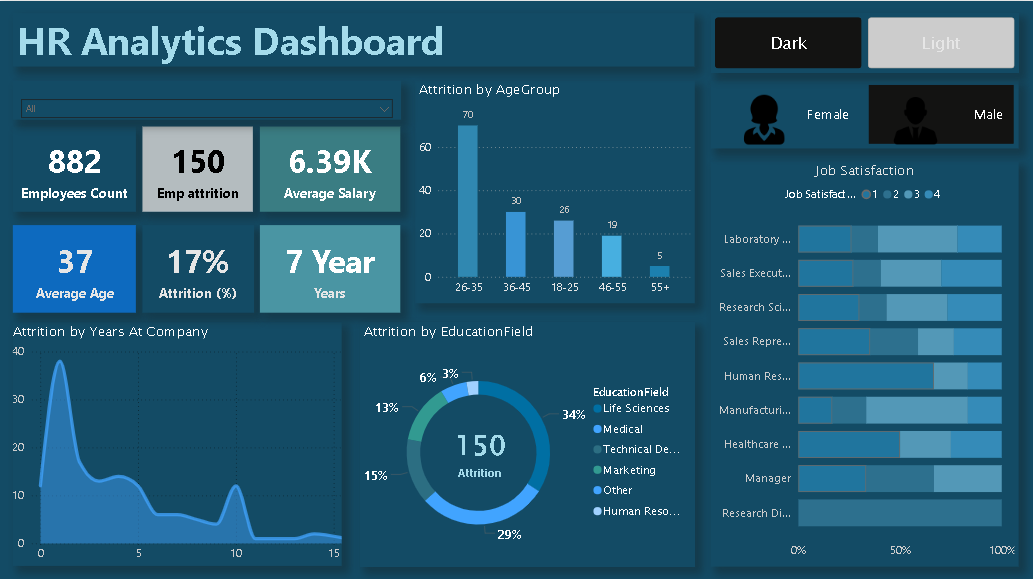

Layout of this report page (visuals, bound fields, positions):
{"tool":"powerbi","page":{"name":"Page 2","canvas":[1280,720],"ordinal":1},"visuals":[{"type":"card","fields":{"Values":["HR_Analytics.Employees_attrition"]},"box":[537.1,511.4,115.7,81.4],"z":0},{"type":"image","box":[903.3,113.3,78.3,68.3],"z":1000},{"type":"image","box":[903.3,105,66.7,76.7],"z":2000},{"type":"image","box":[1175,15,60,65],"z":3000},{"type":"shape","box":[0,0,1280,720],"z":4000},{"type":"card","fields":{"Values":["HR_Analytics.Employees_attrition"]},"box":[550,511.4,90,91.4],"z":5000},{"type":"donutChart","title":"Attrition by EducationField","fields":{"Y":["HR_Analytics.Employees_attrition"],"Category":["HR_Analytics.EducationField"]},"box":[446.7,396.7,413.3,301.7],"z":6000},{"type":"areaChart","title":"Attrition by Years At Company","fields":{"Category":["HR_Analytics.YearsAtCompany"],"Y":["HR_Analytics.Employees_attrition"]},"box":[19.1,396.5,406.1,300.8],"z":7000},{"type":"hundredPercentStackedBarChart","title":"Job Satisfaction","fields":{"Y":["HR_Analytics.Employees_attrition"],"Series":["HR_Analytics.JobSatisfaction"],"Category":["HR_Analytics.JobRole"]},"box":[880,198.3,380,500],"z":8000},{"type":"columnChart","title":"Attrition by AgeGroup","fields":{"Category":["HR_Analytics.AgeGroup"],"Y":["HR_Analytics.Employees_attrition"]},"box":[515,98.3,345,275],"z":9000},{"type":"advancedSlicerVisual","fields":{"Values":["HR_Analytics.Gender"]},"box":[880,98.3,380,83.3],"z":10000},{"type":"card","fields":{"Values":["HR_Analytics.Employee_Count"]},"box":[18.6,155,151.9,105.4],"z":11000},{"type":"card","fields":{"Values":["HR_Analytics.Employees_attrition"]},"box":[178.3,155,136.4,105.4],"z":12000},{"type":"card","fields":{"Values":["HR_Analytics.Avg_Salary"]},"box":[324,155,173.6,105.4],"z":13000},{"type":"card","fields":{"Values":["HR_Analytics.Avg_age"]},"box":[18.6,277.5,151.9,108.5],"z":14000},{"type":"card","fields":{"Values":["HR_Analytics.attrition%"]},"box":[178.3,277.5,138,108.5],"z":15000},{"type":"card","fields":{"Values":["HR_Analytics.year_with_text"]},"box":[324,277.5,173.6,108.5],"z":16000},{"type":"image","box":[910,101.4,71.4,90],"z":17000},{"type":"textbox","title":"  HR Analytics Dashboard","box":[18.6,14.3,841.4,65.7],"z":18000},{"type":"advancedSlicerVisual","fields":{"Values":["Table (2).Mode"],"Label":["HR_Analytics.attrition%"]},"box":[880,15,380,73.3],"z":19000},{"type":"image","box":[1091.7,113.3,81.7,68.3],"z":20000},{"type":"slicer","fields":{"Values":["HR_Analytics.AgeGroup","HR_Analytics.Department"]},"box":[18.6,97.7,479,48.1],"z":21000}]}

Visuals, with their boxes in screenshot pixels (x1, y1, x2, y2), scaled from the page's 1280x720 canvas onto the 1033x579 screenshot:
card - HR_Analytics.Employees_attrition: <bbox>433, 411, 527, 477</bbox>
image: <bbox>729, 91, 792, 146</bbox>
image: <bbox>729, 84, 783, 146</bbox>
image: <bbox>948, 12, 997, 64</bbox>
shape: <bbox>0, 0, 1032, 578</bbox>
card - HR_Analytics.Employees_attrition: <bbox>444, 411, 516, 485</bbox>
"Attrition by EducationField" donutChart: <bbox>361, 319, 694, 562</bbox>
"Attrition by Years At Company" areaChart: <bbox>15, 319, 343, 561</bbox>
"Job Satisfaction" hundredPercentStackedBarChart: <bbox>710, 159, 1017, 562</bbox>
"Attrition by AgeGroup" columnChart: <bbox>416, 79, 694, 300</bbox>
advancedSlicerVisual - HR_Analytics.Gender: <bbox>710, 79, 1017, 146</bbox>
card - HR_Analytics.Employee_Count: <bbox>15, 125, 138, 209</bbox>
card - HR_Analytics.Employees_attrition: <bbox>144, 125, 254, 209</bbox>
card - HR_Analytics.Avg_Salary: <bbox>261, 125, 402, 209</bbox>
card - HR_Analytics.Avg_age: <bbox>15, 223, 138, 310</bbox>
card - HR_Analytics.attrition%: <bbox>144, 223, 255, 310</bbox>
card - HR_Analytics.year_with_text: <bbox>261, 223, 402, 310</bbox>
image: <bbox>734, 82, 792, 154</bbox>
"  HR Analytics Dashboard" textbox: <bbox>15, 11, 694, 64</bbox>
advancedSlicerVisual - Table (2).Mode x HR_Analytics.attrition%: <bbox>710, 12, 1017, 71</bbox>
image: <bbox>881, 91, 947, 146</bbox>
slicer - HR_Analytics.AgeGroup x HR_Analytics.Department: <bbox>15, 79, 402, 117</bbox>
